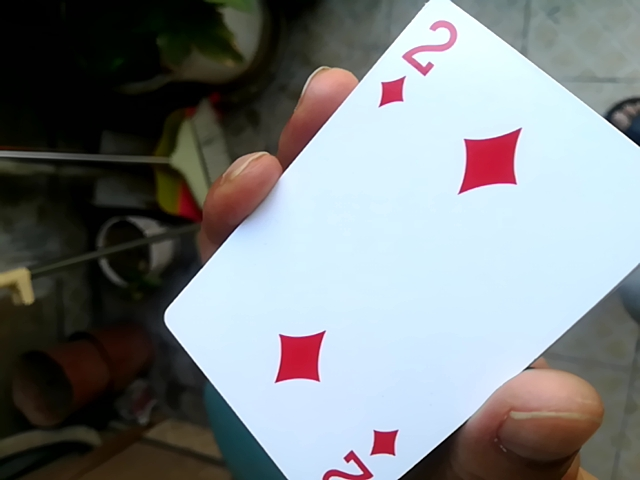fk 2: (166, 6, 634, 477)
